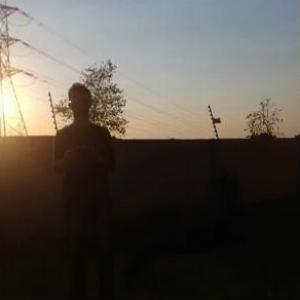follow: (52, 78, 120, 296)
